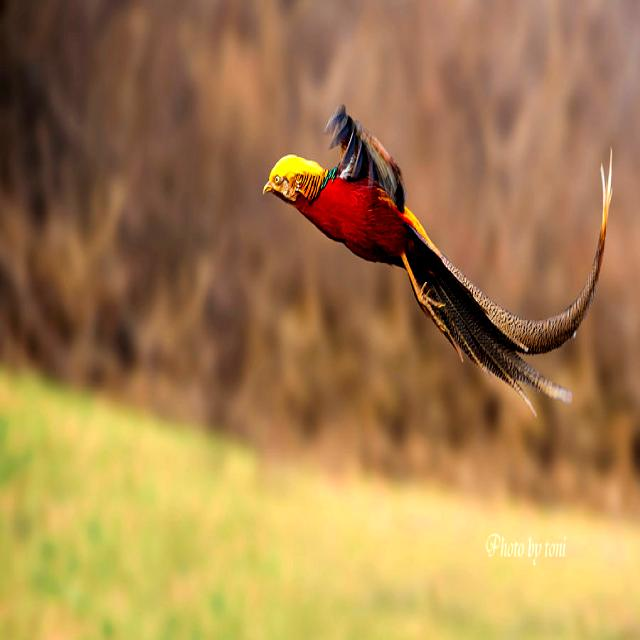Chrysolophus pictus feather: (409, 154, 611, 402)
